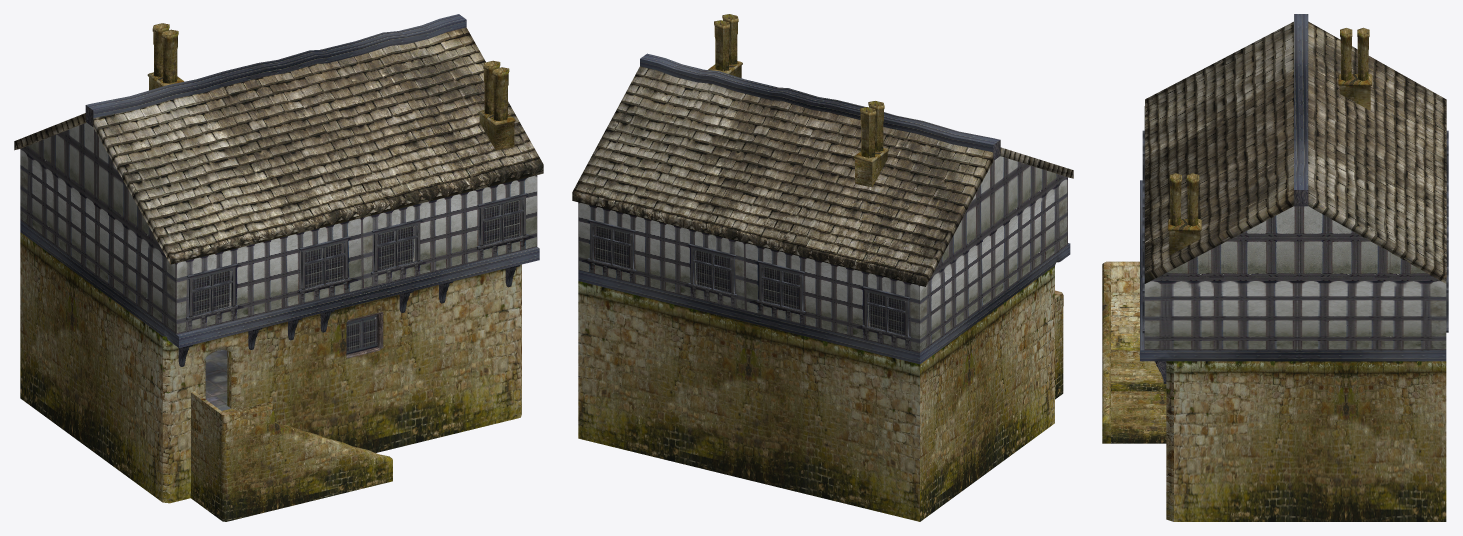
File: medhouse6.fbx
The picture shows the model from 3 angles, left to right: view 1: azimuth 30°, elevation 25°; view 2: azimuth 150°, elevation 25°; view 3: azimuth 270°, elevation 25°; orthographic projection. The views are drawn at different scales.
Parts seen in each view (by area): view 1: medhouse6, medhouse6_interior; view 2: medhouse6; view 3: medhouse6.
Boxes of the visible parts, <box> form: medhouse6: <box>14,14,543,521</box>; medhouse6_interior: <box>205,350,230,410</box>; medhouse6: <box>572,14,1073,521</box>; medhouse6: <box>1102,14,1448,521</box>.
Size of the model in its own units: 1482 by 1440 by 1232.
